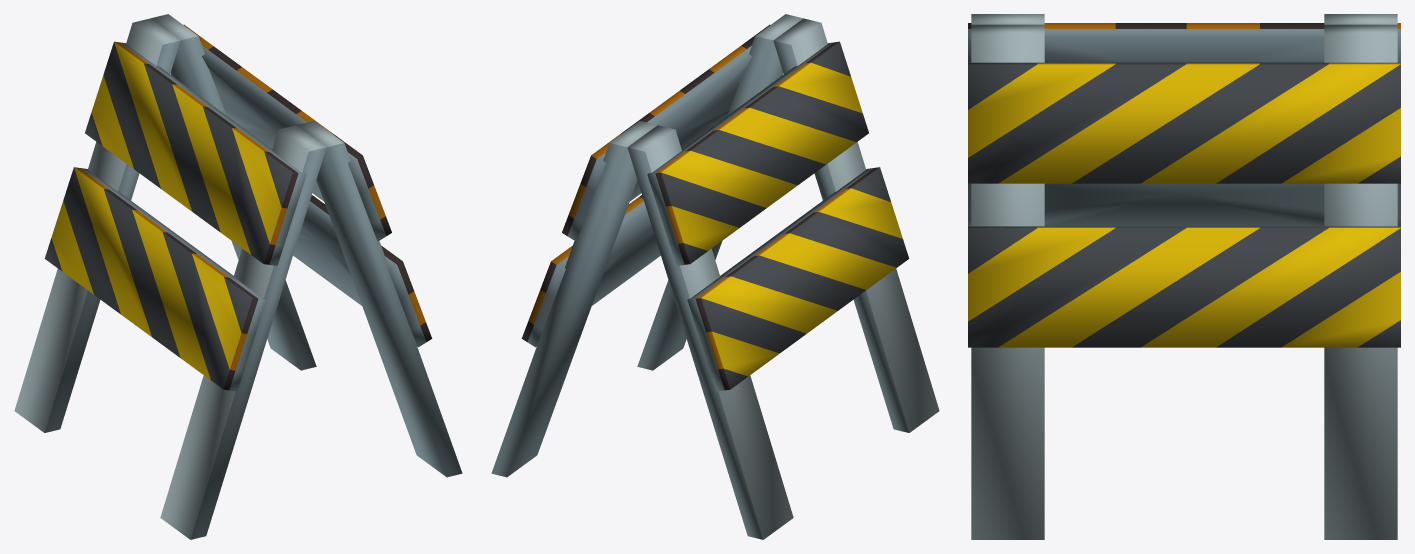
The model's file is furnishings-signs-roadworkssign_v1.glb.
3 renders of one model, left to right at view 1: azimuth 30°, elevation 25°; view 2: azimuth 150°, elevation 25°; view 3: azimuth 270°, elevation 25°, orthographic. The views are drawn at different scales.
Parts seen in each view (by area): view 1: RoadworksSign.001; view 2: RoadworksSign.001; view 3: RoadworksSign.001.
Boxes of the visible parts, left/top/right/bottom form: RoadworksSign.001: left=14, top=14, right=462, bottom=539; RoadworksSign.001: left=491, top=14, right=939, bottom=539; RoadworksSign.001: left=968, top=14, right=1400, bottom=539.
Size of the model in its own units: 0.7763 by 0.9801 by 0.8839.
